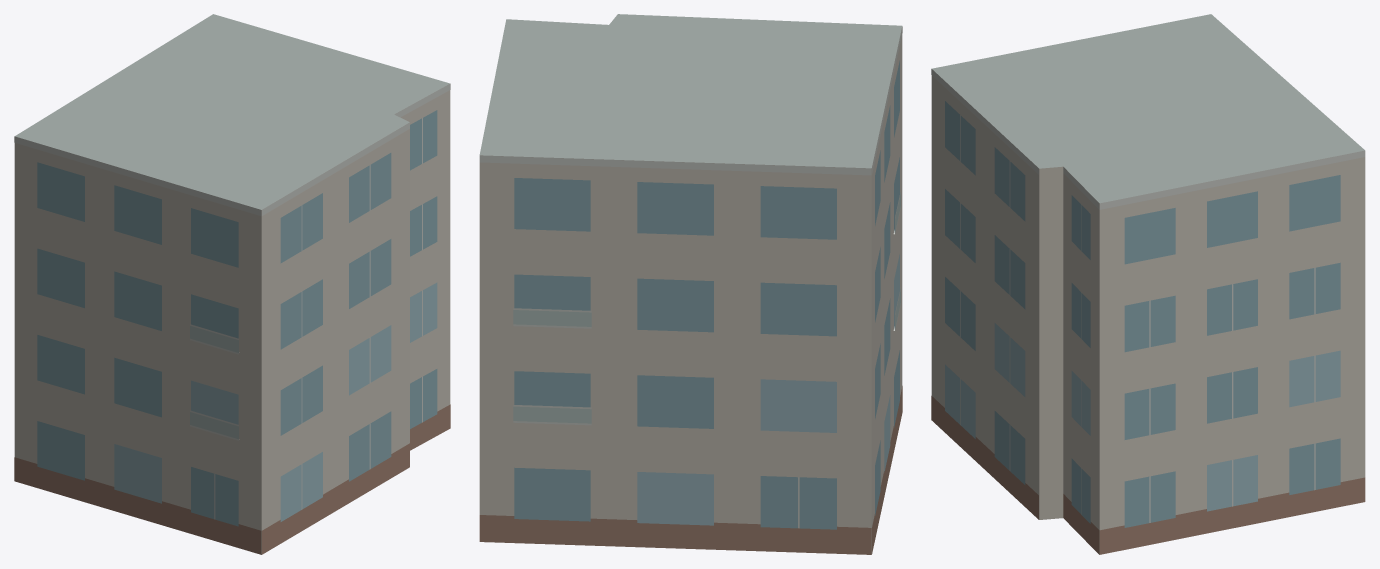
Rendered from survey-upis-32732597.glb.
3 renders of one model, left to right at view 1: azimuth 30°, elevation 25°; view 2: azimuth 150°, elevation 25°; view 3: azimuth 270°, elevation 25°, orthographic. The views are drawn at different scales.
Visible parts, largest first — view 1: survey-upis-32732597.tmp; view 2: survey-upis-32732597.tmp; view 3: survey-upis-32732597.tmp.
Part boxes in pixels (bbox=[...]): survey-upis-32732597.tmp: bbox=[14, 14, 450, 554]; survey-upis-32732597.tmp: bbox=[479, 14, 902, 554]; survey-upis-32732597.tmp: bbox=[931, 14, 1365, 554].
Bounding box in the file's own units: 15.27 × 13.2 × 14.78.
